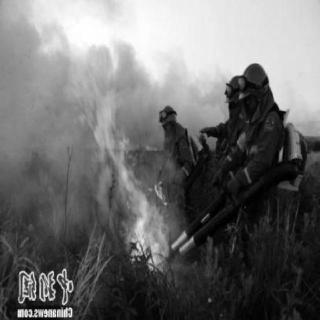Fire: (95, 49, 171, 267)
Smoke: (8, 40, 78, 184)
